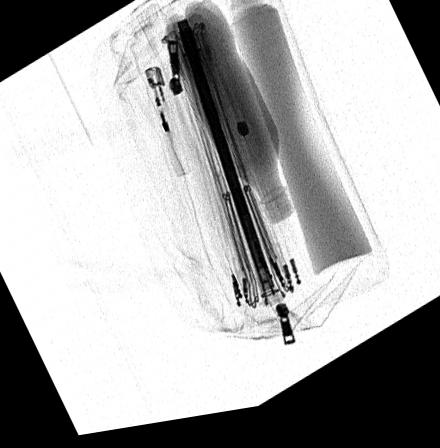Lighter: (143, 69, 191, 181)
